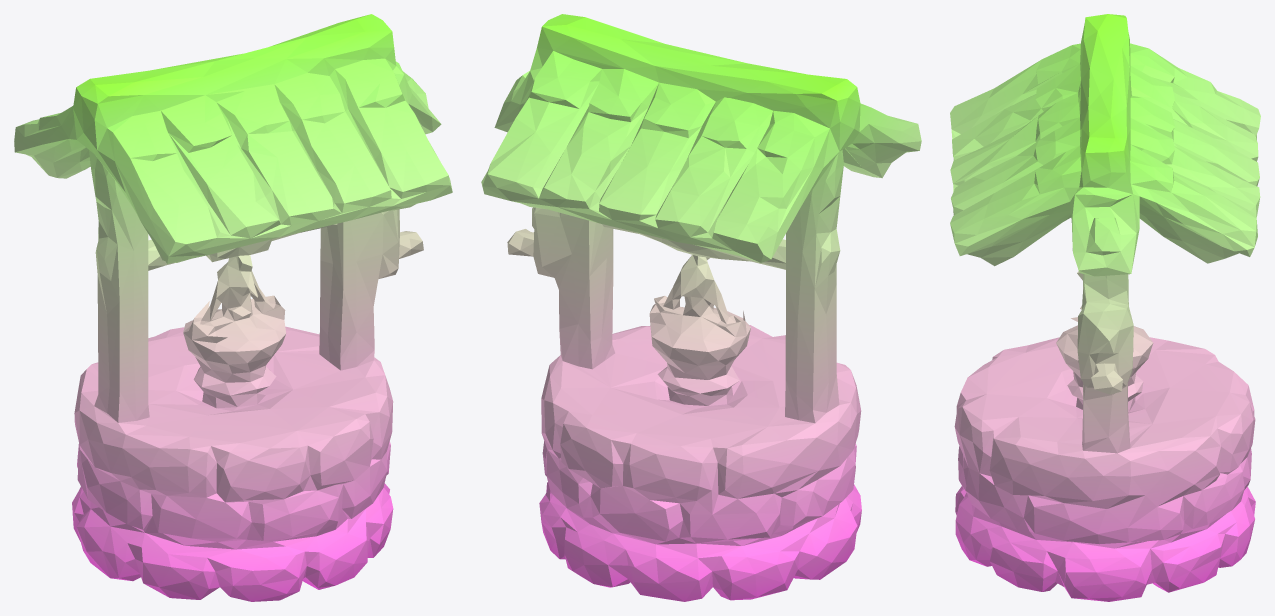
Rendered from 174_cyb_laser_gradient_fish_scales_2881_2026_10_03_fd029e.glb.
3 views of the same model, side by side, from view 1: azimuth 30°, elevation 25°; view 2: azimuth 150°, elevation 25°; view 3: azimuth 270°, elevation 25° (orthographic). The views are drawn at different scales.
Visible parts, largest first — view 1: geometry_0; view 2: geometry_0; view 3: geometry_0.
Part boxes in pixels (bbox=[...]): geometry_0: bbox=[14, 14, 452, 601]; geometry_0: bbox=[481, 14, 921, 601]; geometry_0: bbox=[950, 14, 1260, 601].
Size of the model in its own units: 0.7375 by 1 by 0.6055.
